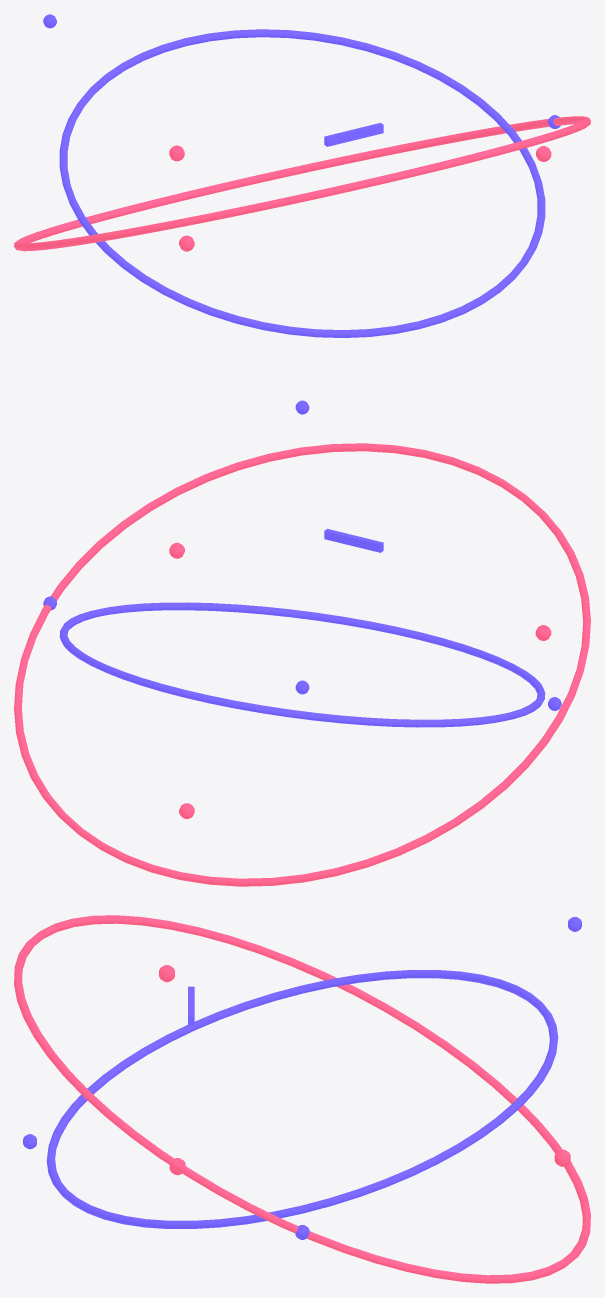
The model's file is avatar-nebulosa-kit-operador.glb.
The picture shows the model from 3 angles, top to bottom: view 1: azimuth 30°, elevation 25°; view 2: azimuth 150°, elevation 25°; view 3: azimuth 270°, elevation 25°; orthographic projection. The views are drawn at different scales.
Visible parts, largest first — view 1: kit_nebulosa_operador_pathA, kit_nebulosa_operador_pathB, kit_nebulosa_operador_pulseBar; view 2: kit_nebulosa_operador_pathB, kit_nebulosa_operador_pathA, kit_nebulosa_operador_pulseBar; view 3: kit_nebulosa_operador_pathB, kit_nebulosa_operador_pathA.
Boxes of the visible parts, left/top/right/bottom form: kit_nebulosa_operador_pathA: left=59, top=29, right=545, bottom=337; kit_nebulosa_operador_pathB: left=14, top=116, right=590, bottom=251; kit_nebulosa_operador_pulseBar: left=324, top=122, right=383, bottom=146; kit_nebulosa_operador_pathB: left=14, top=443, right=590, bottom=886; kit_nebulosa_operador_pathA: left=59, top=602, right=545, bottom=727; kit_nebulosa_operador_pulseBar: left=324, top=528, right=383, bottom=552; kit_nebulosa_operador_pathB: left=14, top=915, right=590, bottom=1283; kit_nebulosa_operador_pathA: left=46, top=970, right=558, bottom=1228.
Size of the model in its own units: 1.18 by 0.5088 by 1.06.
